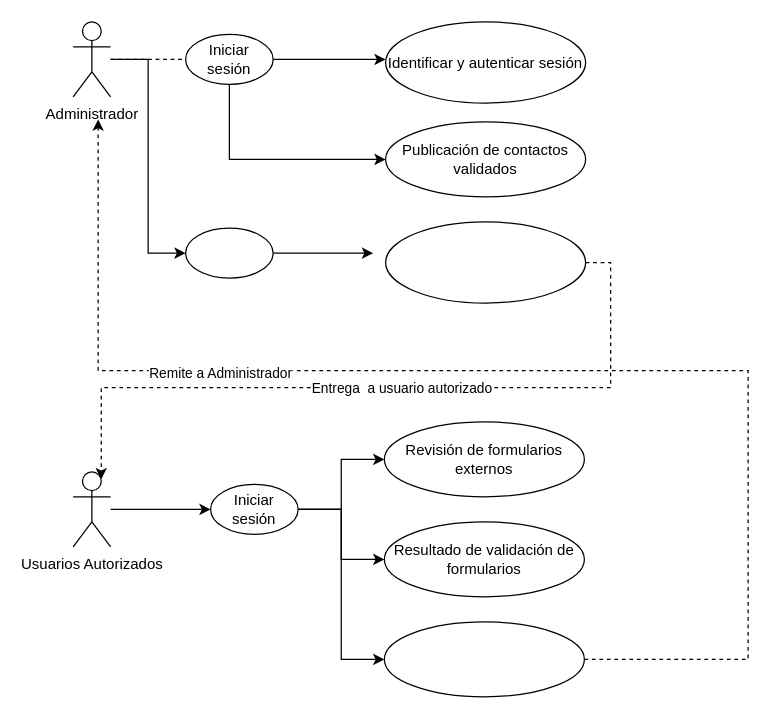
Some shapes in this 780 by 719 pixel diagram are drawn without their labels. The box of each missing label's shape, as (x1, y1, x2, y2) in pixels:
Autorización de publicación del nuevo contacto: (383, 621, 584, 697)
Autorizar usuarios: (184, 227, 273, 278)
Generar claves de autenticación usuarios autorizados: (384, 221, 586, 303)
